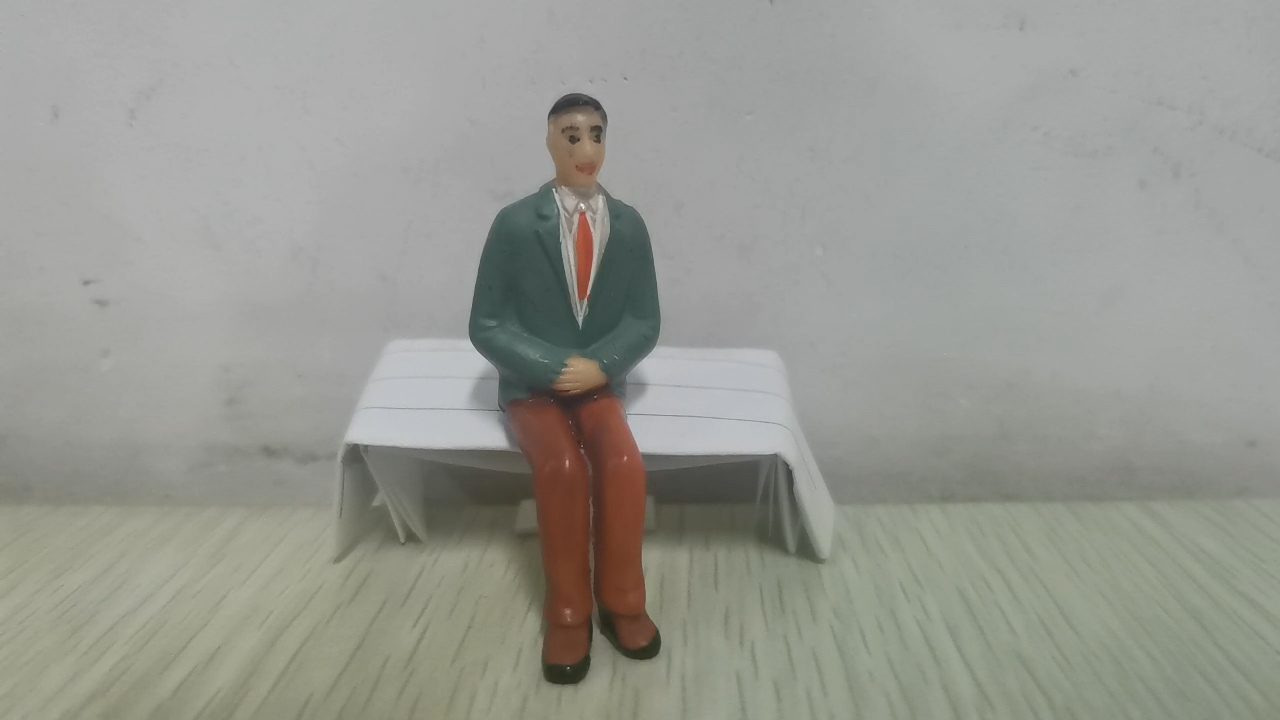person: (467, 92, 665, 685)
